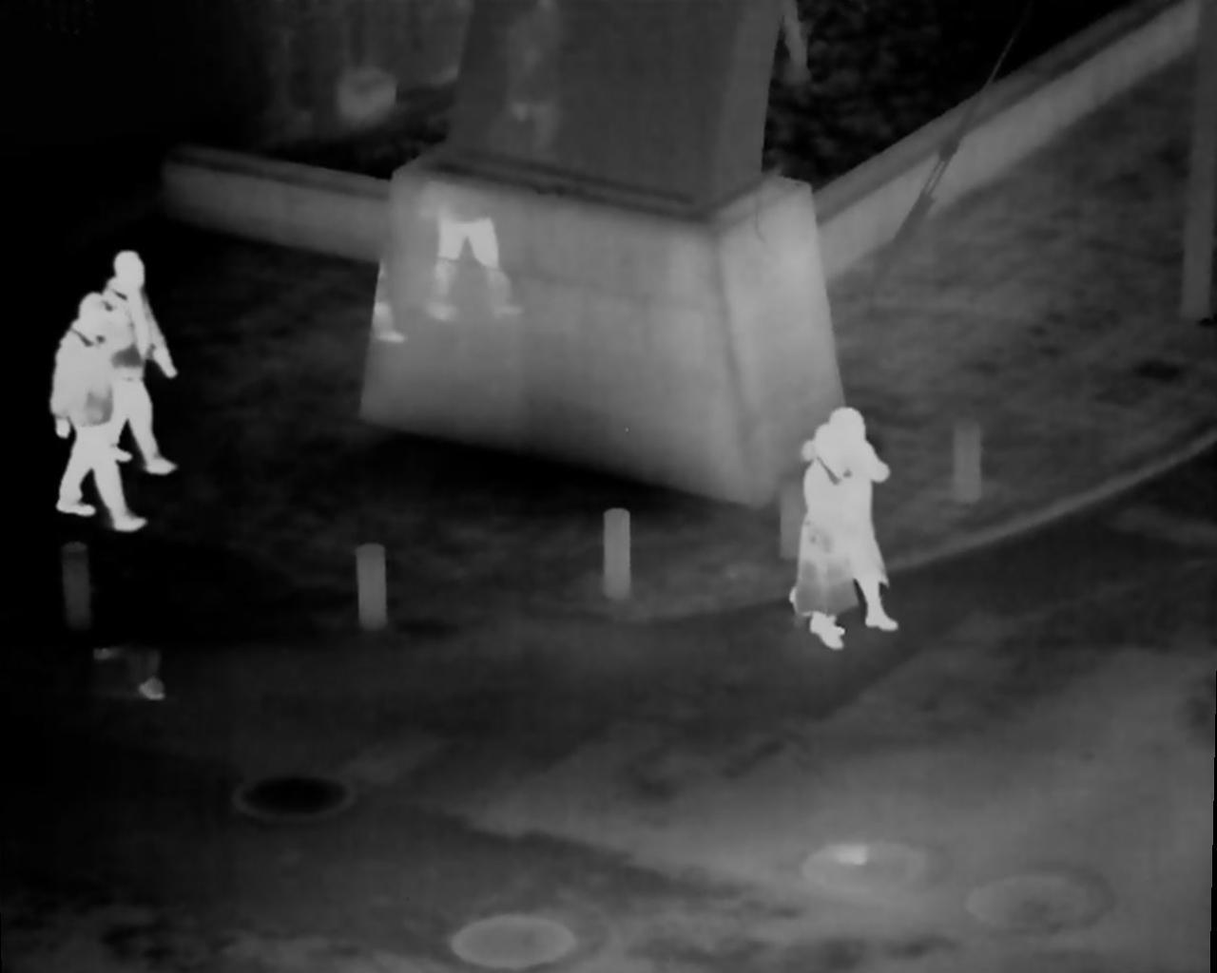person: (55, 296, 146, 528), (833, 408, 898, 639), (107, 249, 171, 471), (799, 425, 858, 647)
